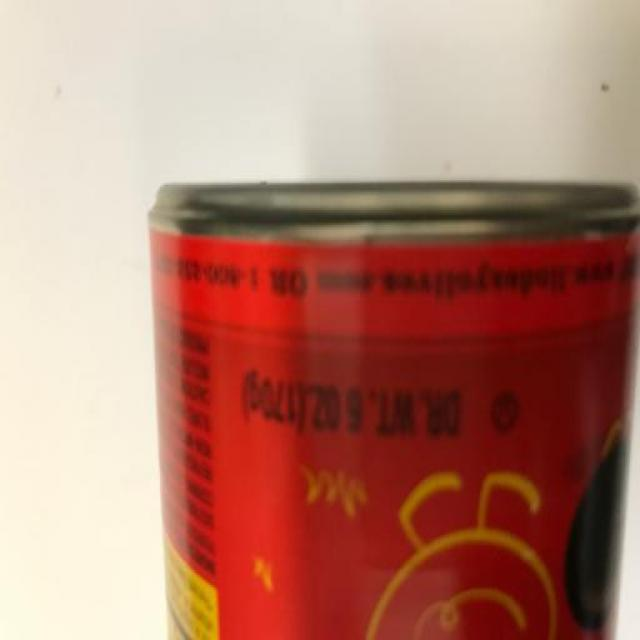metel: (103, 124, 640, 640)
